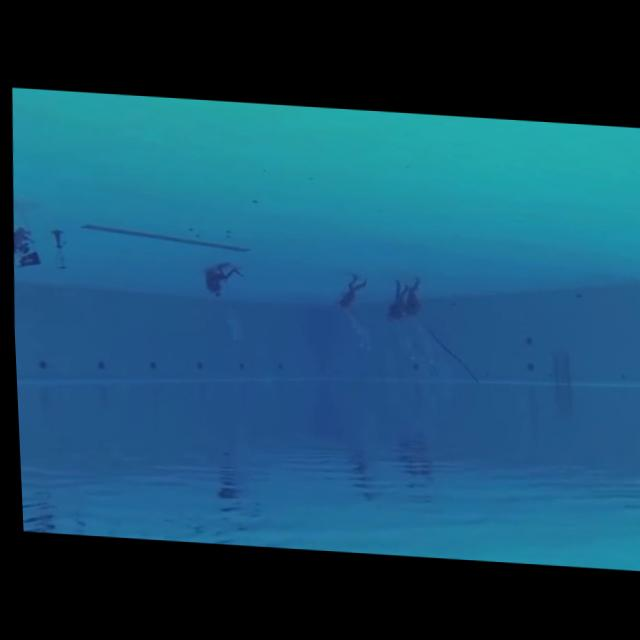human: (9, 203, 43, 275), (197, 255, 243, 306), (327, 266, 368, 318), (398, 267, 429, 327), (381, 272, 411, 326)
